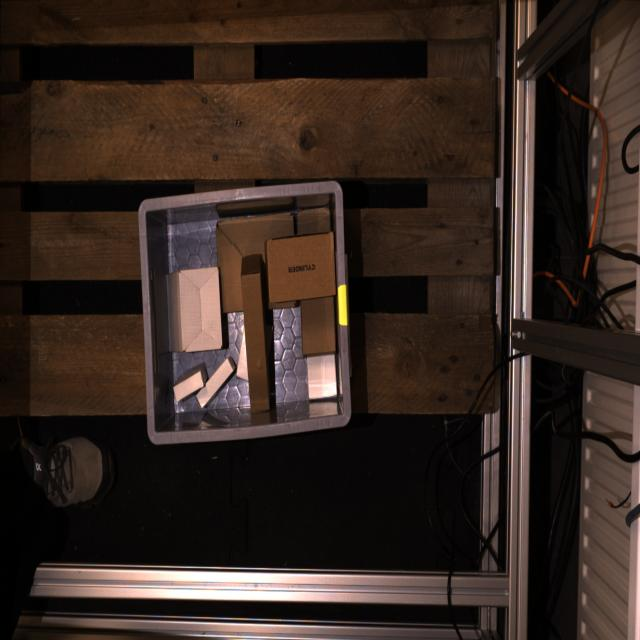CardboardBox: (217, 213, 296, 313), (264, 231, 335, 301), (167, 266, 222, 351), (241, 255, 270, 412), (299, 295, 336, 357), (196, 355, 237, 408), (173, 361, 208, 402), (307, 352, 338, 398), (295, 207, 331, 235)
